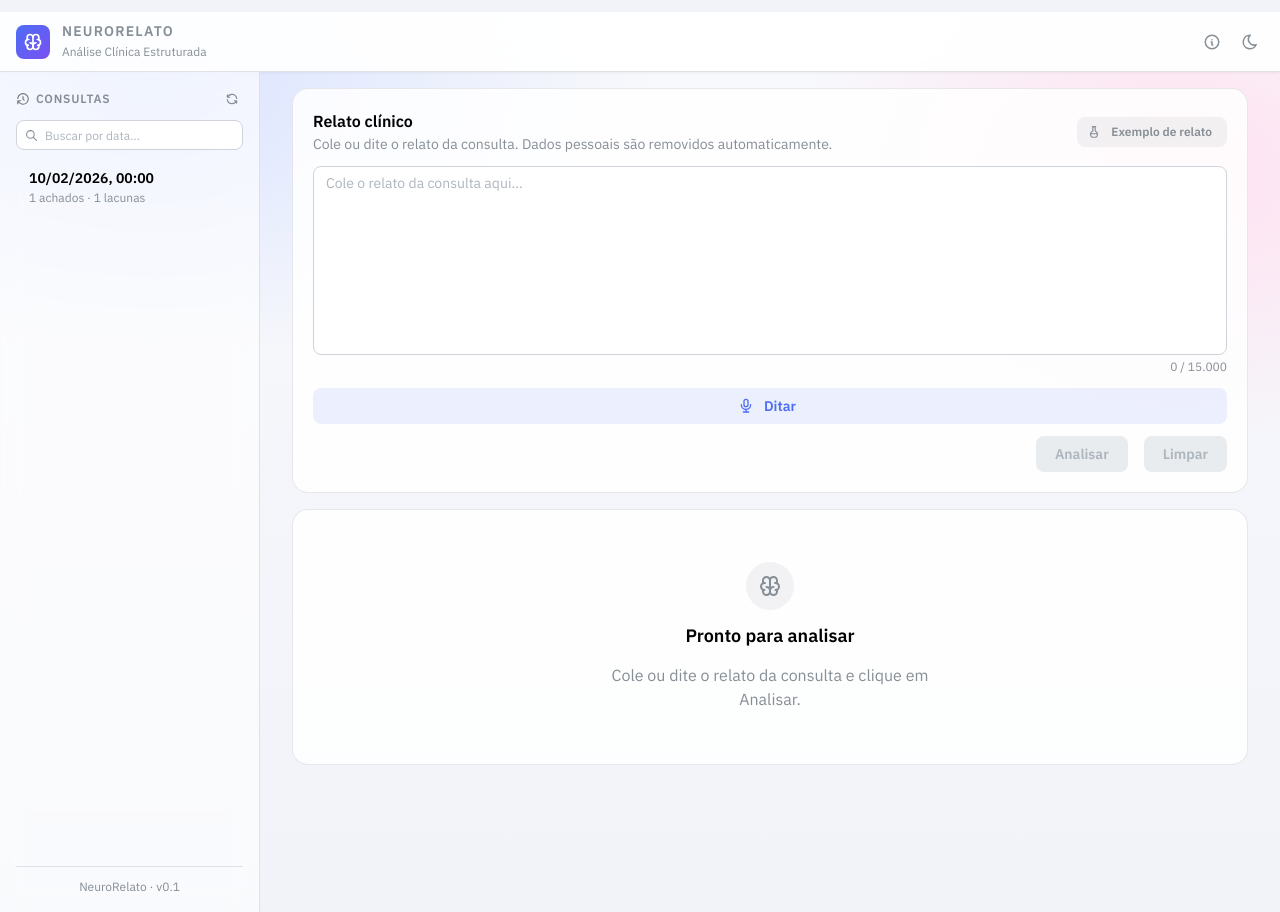
it: carrega historico e abre um run salvo
Expected: the text "1 achados · 1 lacunas" is shown, [29, 190, 154, 207]
Click the button "10/02/2026, 00:00 1 achados · 1 lacunas" at (130, 188), box [16, 160, 243, 215]
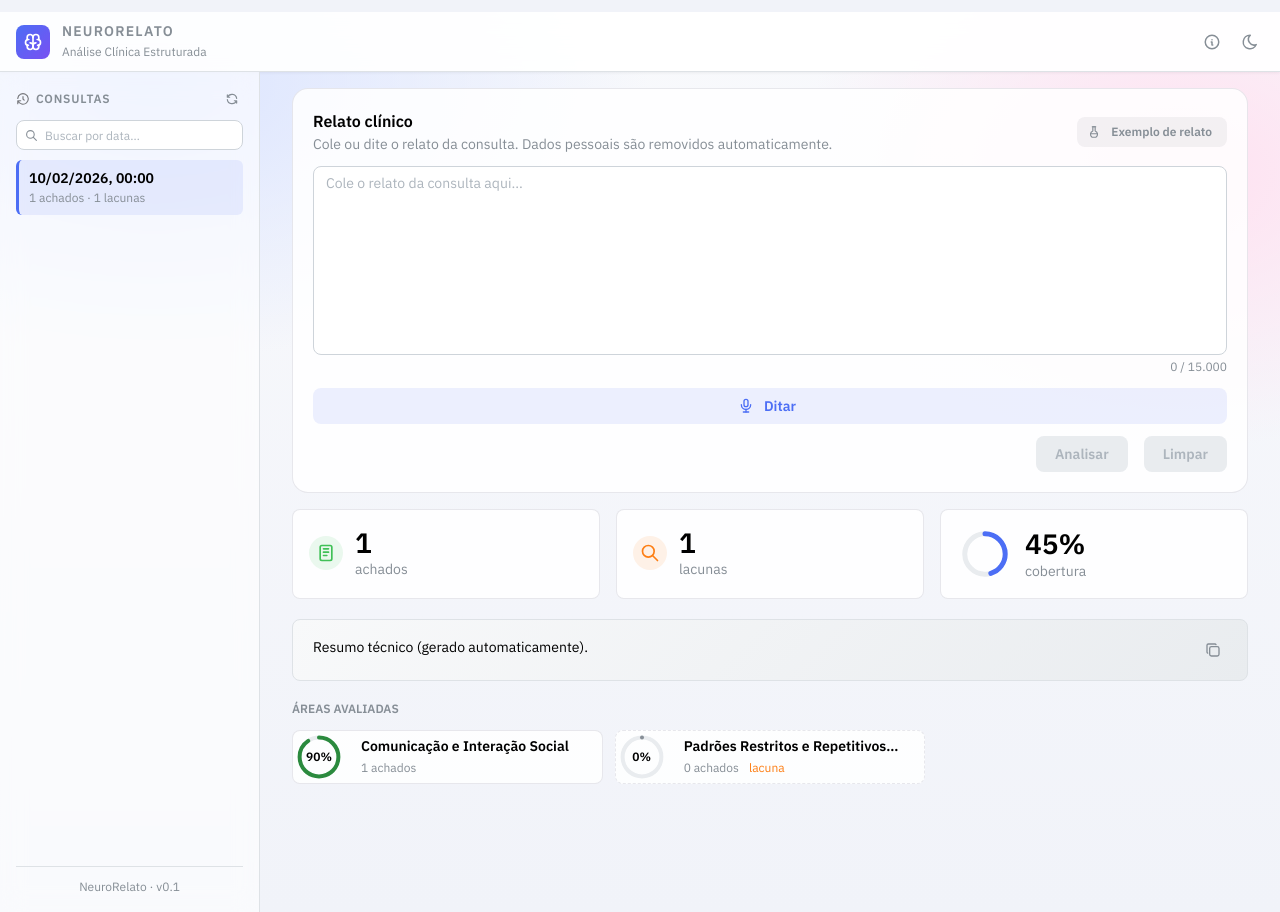
Result: the text "Comunicação e Interação Social" is shown at [361, 736, 602, 756]
